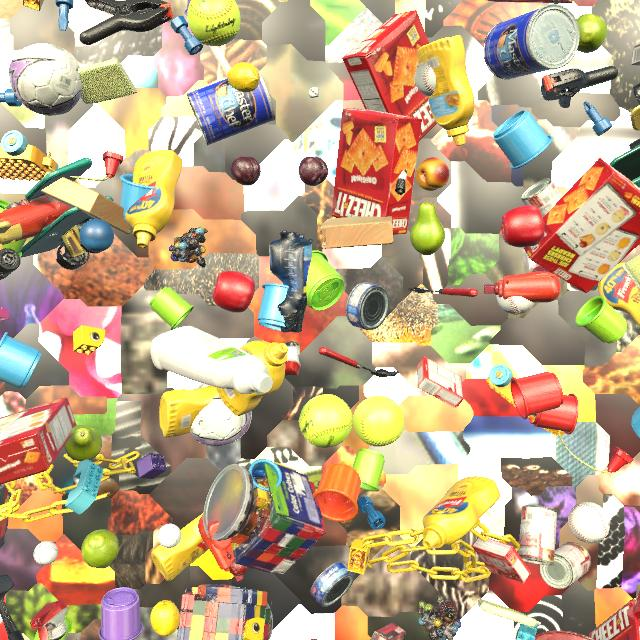ycb_002_master_chef_can: (483, 4, 580, 79), (186, 67, 276, 146)
ycb_003_cracker_box: (523, 158, 640, 293), (342, 10, 437, 141), (331, 108, 422, 235), (0, 397, 76, 485), (589, 599, 640, 640), (486, 0, 573, 3), (632, 591, 640, 621)
ycb_005_tomato_soup_can: (540, 542, 591, 589), (518, 505, 557, 566), (521, 178, 563, 217)
ycb_006_mustard_bottle: (417, 35, 475, 146), (422, 476, 500, 549), (125, 150, 182, 248), (216, 340, 288, 416), (159, 386, 261, 438), (151, 513, 208, 581), (598, 263, 640, 326)
ycb_007_tuna_fish_can: (310, 561, 355, 607), (346, 282, 389, 330)
ycb_008_pudding_box: (370, 622, 406, 640), (631, 44, 640, 66)
ycb_009_gelatin_box: (471, 537, 531, 584), (417, 357, 463, 408)
ycb_012_strawberry: (311, 639, 318, 640)
ycb_013_apple: (501, 205, 545, 247), (212, 271, 255, 313)
ycb_014_lemon: (150, 600, 180, 636), (228, 62, 260, 92)
ycb_015_peach: (416, 157, 450, 191)
ycb_016_pear: (410, 201, 445, 255), (81, 529, 119, 568), (64, 425, 102, 461), (576, 14, 607, 53)
ycb_018_plum: (230, 156, 261, 185), (299, 156, 328, 186)
